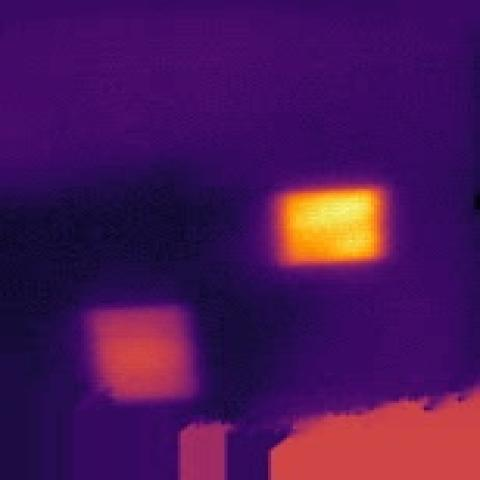fault: (76, 299, 212, 417), (269, 182, 396, 269), (173, 420, 232, 480)
